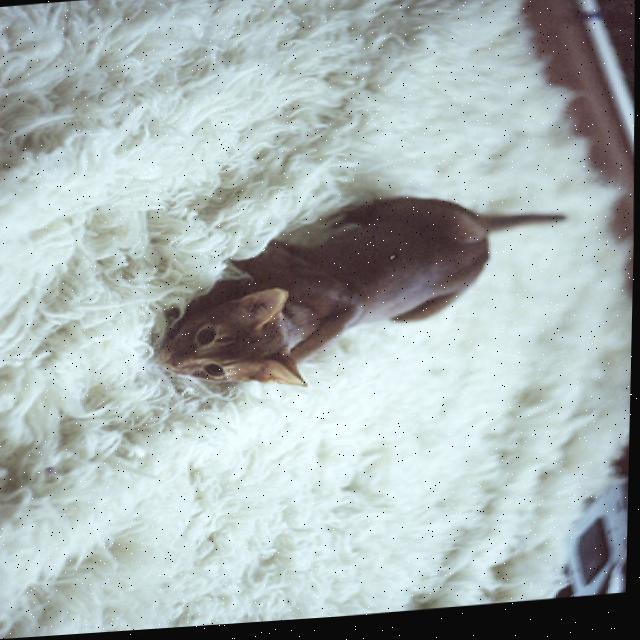Abyssinian: (150, 183, 583, 405)
